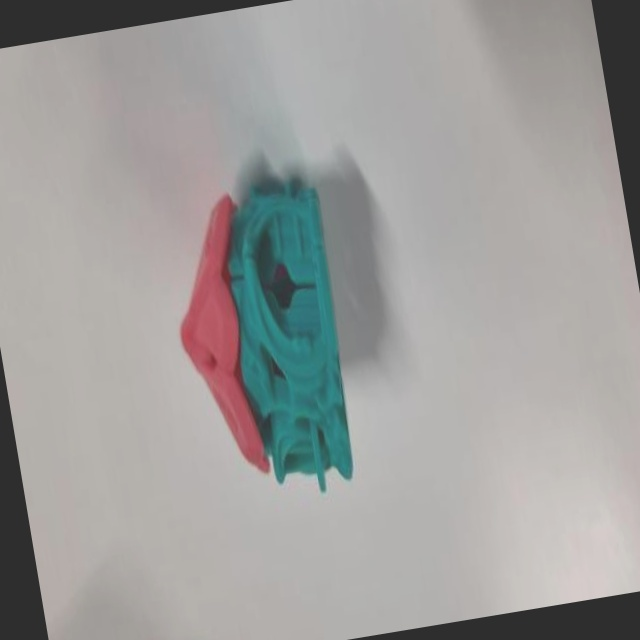House: (148, 155, 380, 528)
